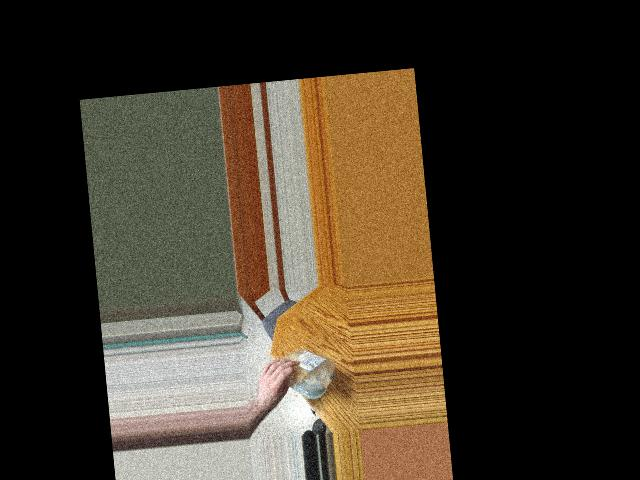cheese: (269, 343, 339, 401)
